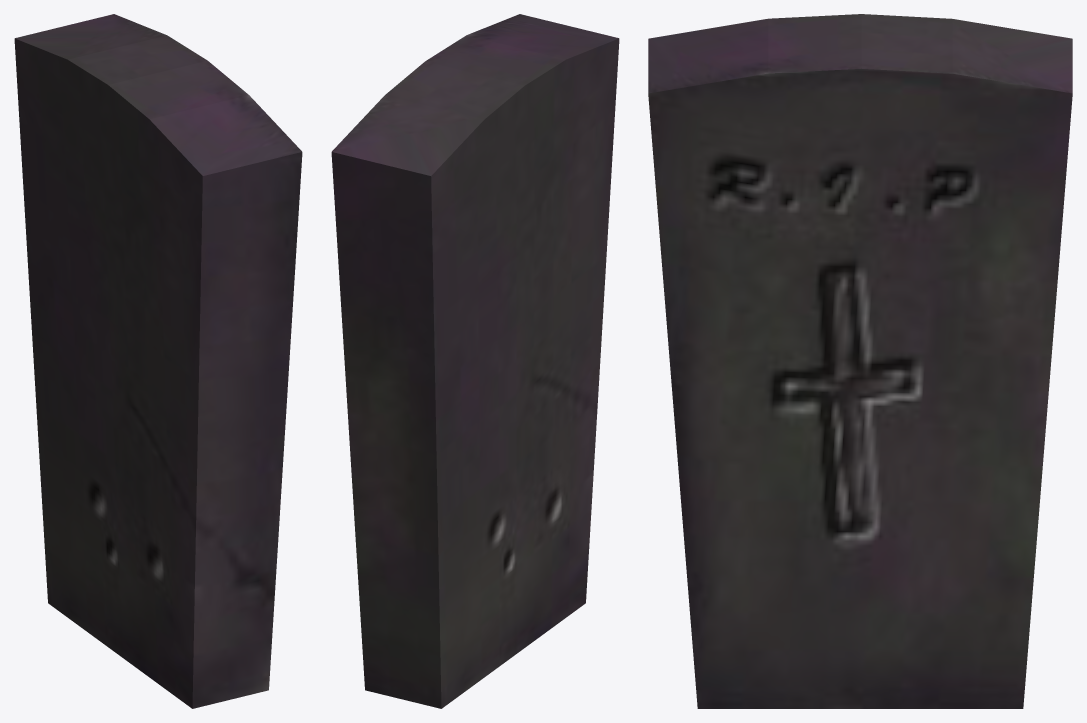
File: peasant_tombstone_4_.fbx
3 views of the same model, side by side, from view 1: azimuth 30°, elevation 25°; view 2: azimuth 150°, elevation 25°; view 3: azimuth 270°, elevation 25° (orthographic). The views are drawn at different scales.
Visible parts, largest first — view 1: Peasant_Tombstone_4; view 2: Peasant_Tombstone_4; view 3: Peasant_Tombstone_4.
Part boxes in pixels (x1,y1,x2,y2): Peasant_Tombstone_4: (14,14,302,708); Peasant_Tombstone_4: (331,14,619,708); Peasant_Tombstone_4: (648,14,1072,708).
Bounding box in the file's own units: 1.17 × 6.45 × 3.84.
